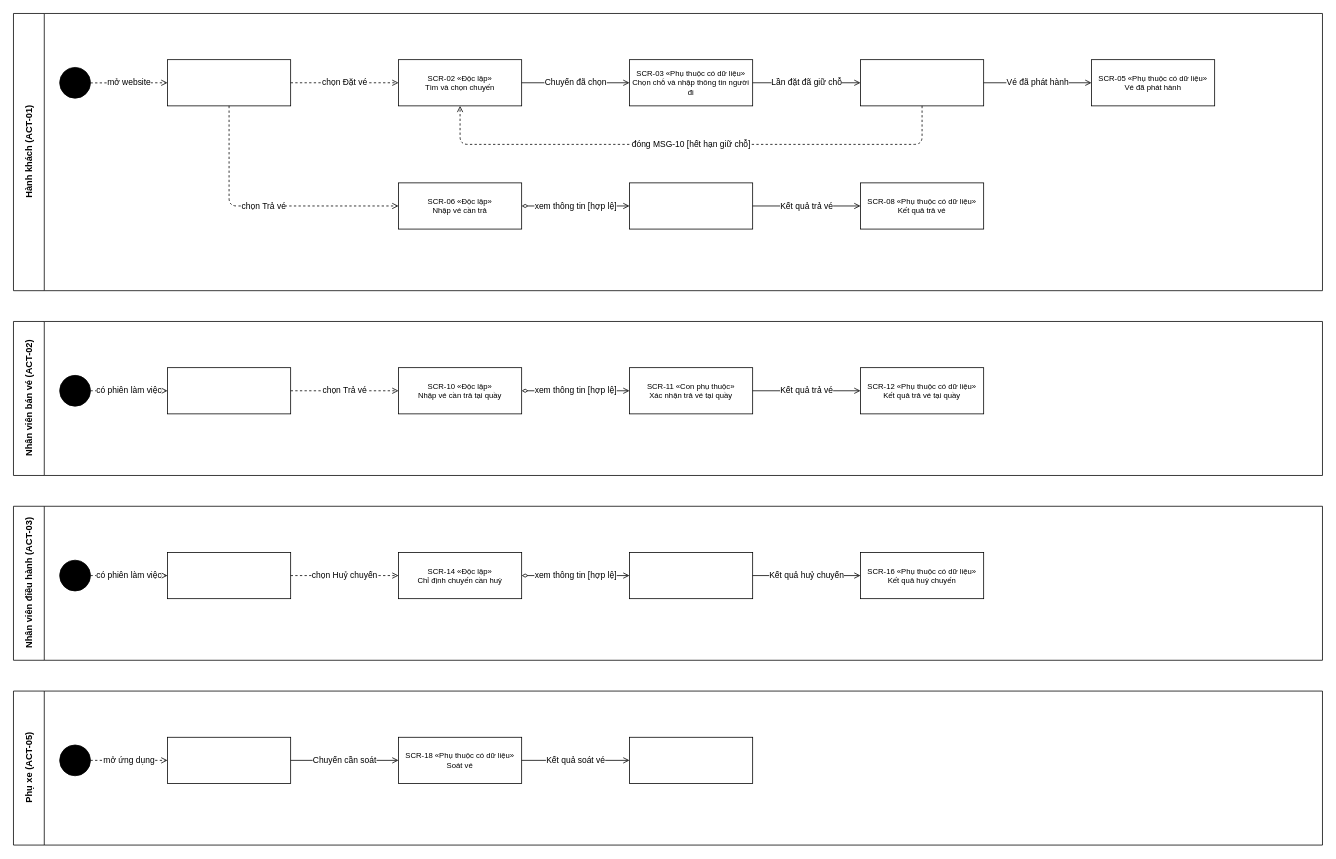
The diagram is 1336 pixels wide and 859 high, and some of its shapes have lost their labels. The centre of each missing label's shape, as x and y in pixels:
SCR-01 «Độc lập» Trang chủ hành khách: pixel 229 82
SCR-04 «Phụ thuộc có dữ liệu» Thanh toán lần đặt: pixel 922 82
SCR-07 «Con phụ thuộc» Xác nhận trả vé: pixel 691 205
SCR-09 «Độc lập» Trang chủ nhân viên bán vé: pixel 229 390
SCR-13 «Độc lập» Trang chủ nhân viên điều hành: pixel 229 575
SCR-15 «Con phụ thuộc» Xác nhận huỷ chuyến: pixel 691 575
SCR-17 «Độc lập» Chọn chuyến soát vé: pixel 229 760
SCR-19 «Phụ thuộc có dữ liệu» Kết quả soát vé của chuyến: pixel 691 760
